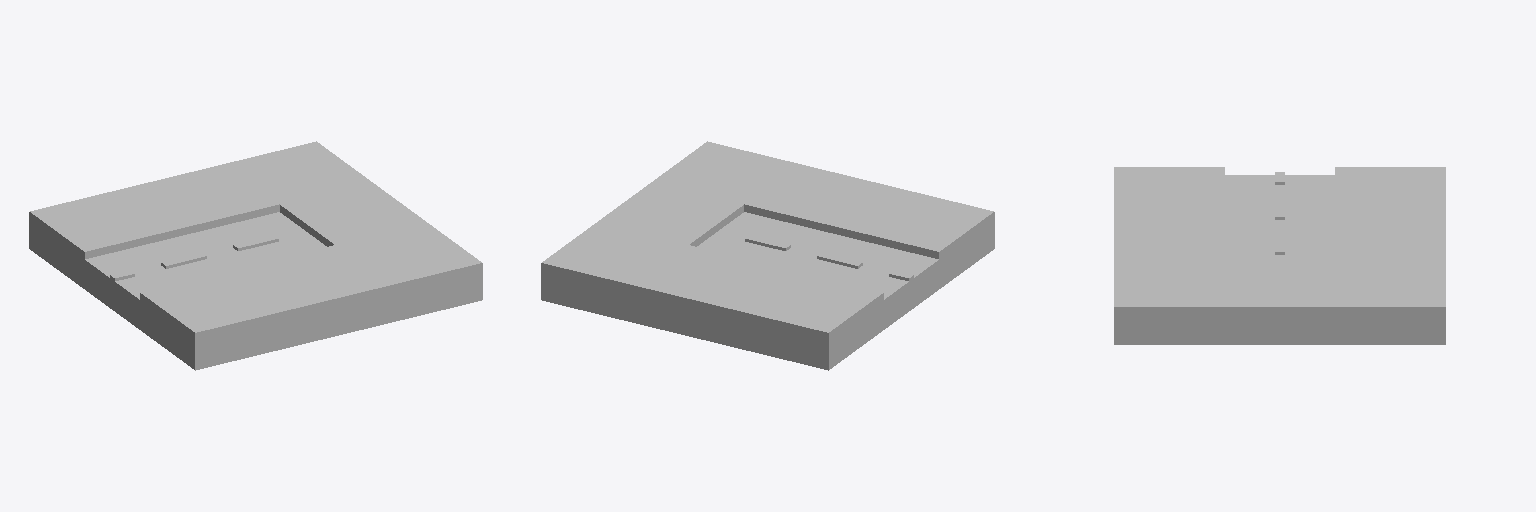
Rendered from Street_Deadend.obj.
The picture shows the model from 3 angles: view 1: azimuth 30°, elevation 25°; view 2: azimuth 150°, elevation 25°; view 3: azimuth 270°, elevation 25°; orthographic projection.
Visible parts, largest first — view 1: Street_Deadend_Cube.015; view 2: Street_Deadend_Cube.015; view 3: Street_Deadend_Cube.015.
Part boxes in pixels (x1,y1,x2,y2): Street_Deadend_Cube.015: (29,141,482,370); Street_Deadend_Cube.015: (541,141,994,370); Street_Deadend_Cube.015: (1114,167,1445,344).
Bounding box in the file's own units: 2 × 0.25 × 2.